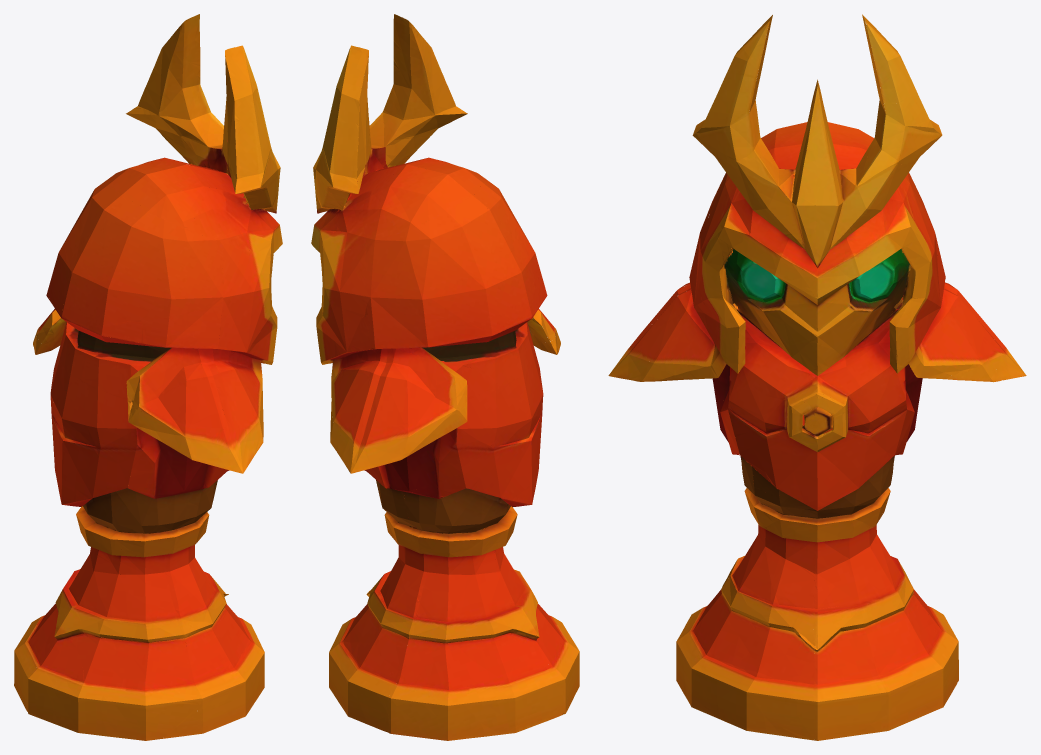
3 views of the same model, side by side, from view 1: azimuth 30°, elevation 25°; view 2: azimuth 150°, elevation 25°; view 3: azimuth 270°, elevation 25° (orthographic). The views are drawn at different scales.
Parts seen in each view (by area): view 1: tripo_node_6169b9d9-95f2-411a-a542-b074b944b315; view 2: tripo_node_6169b9d9-95f2-411a-a542-b074b944b315; view 3: tripo_node_6169b9d9-95f2-411a-a542-b074b944b315.
Boxes of the visible parts, bbox=[...] form: tripo_node_6169b9d9-95f2-411a-a542-b074b944b315: bbox=[14, 14, 282, 740]; tripo_node_6169b9d9-95f2-411a-a542-b074b944b315: bbox=[311, 14, 579, 740]; tripo_node_6169b9d9-95f2-411a-a542-b074b944b315: bbox=[608, 14, 1026, 740].
Bounding box in the file's own units: 0.4077 × 1 × 0.5384.
Materials: 1 (1 with a texture image).
